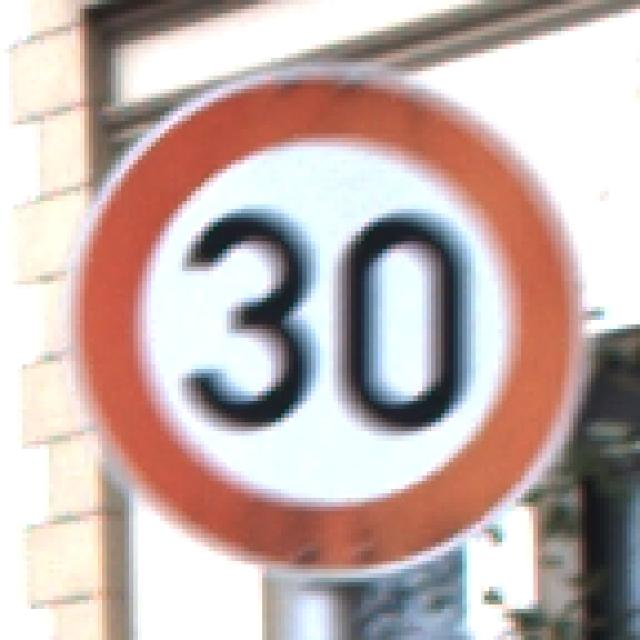Speed Limit -30-: (58, 51, 578, 585)
